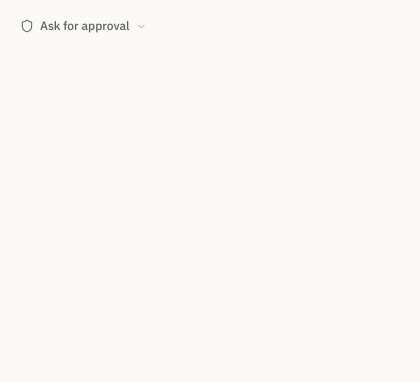
Test: does not display a saved mode when the backend rejects it
Press the mouse on the button with aria-label "Permissions:": (83, 26) [12, 12, 154, 40]
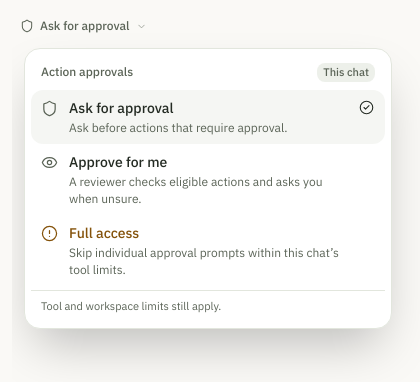
Expected: the menu item "Ask for approval Ask before actions that require approval." is shown, [31, 90, 385, 144]
Click the menu item "Approve for me": (182, 179) [41, 153, 322, 206]
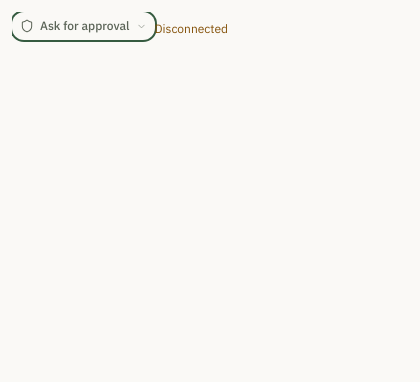
Expected: the button with aria-label "Permissions: Ask for approval" is shown, [12, 12, 154, 40]
Expected: the message "Disconnected" is shown, [154, 21, 228, 36]
